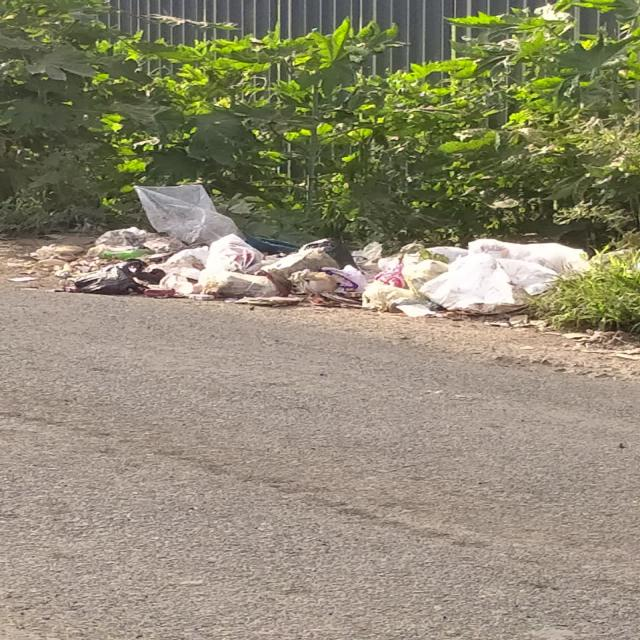garbage: (65, 216, 587, 318)
